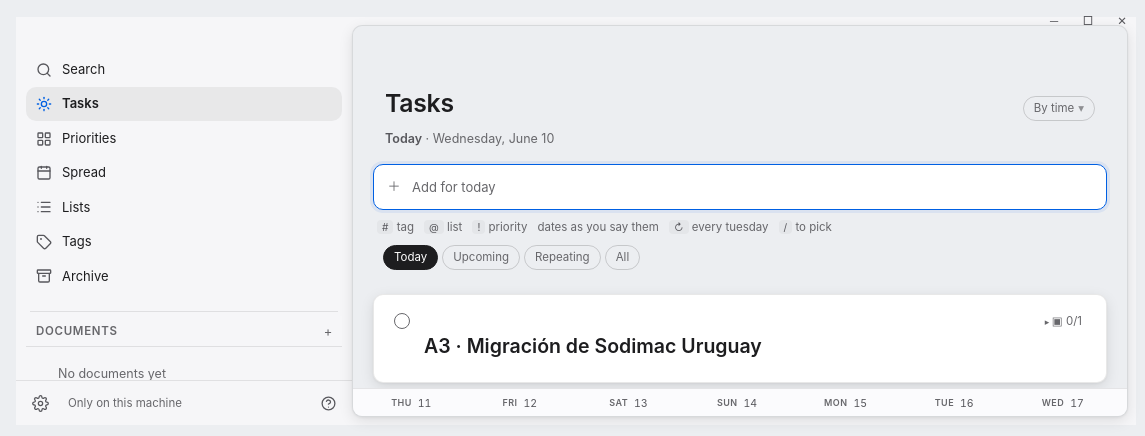
Scenario: a part the view leaves out, opened from the list › says so when its parts cannot be read
Click the button named "0 of 1 parts closed" at (1063, 322), box [1041,312,1086,331]
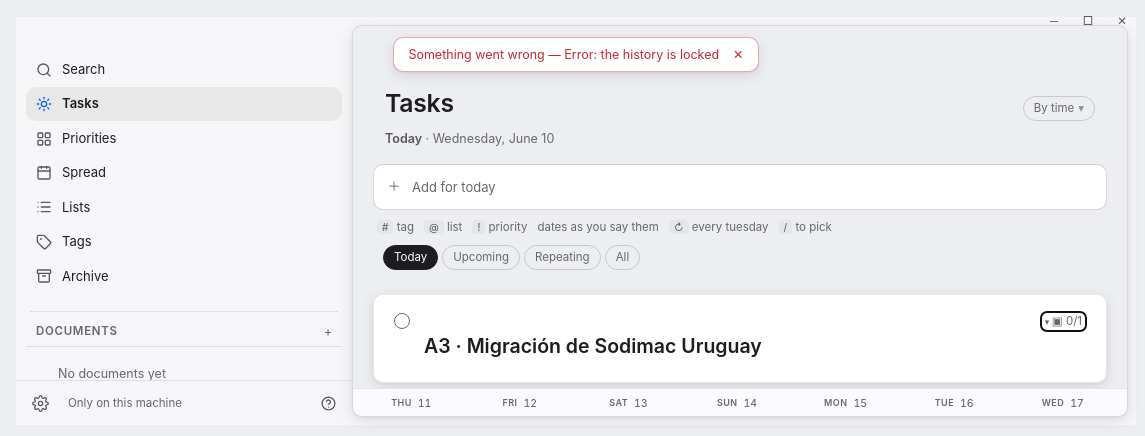
Result: the text "Something went wrong — Error: the history is locked" is shown at [408,46,719,63]
